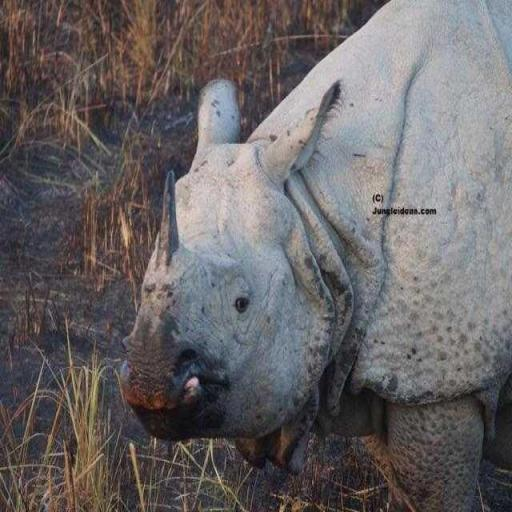Rhino: (118, 0, 512, 512)
